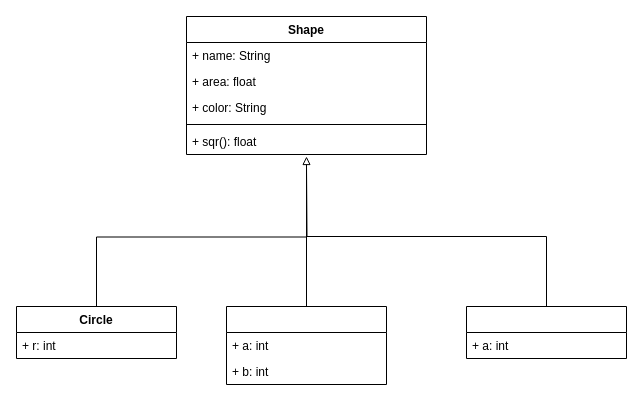
Image size: 643x401. Some labels were removed from this diagram. Here are the shapes that lost their labels. From the top down, the box of each, then its label:
(226, 306, 386, 384): Rectangle
(466, 306, 626, 358): Square
